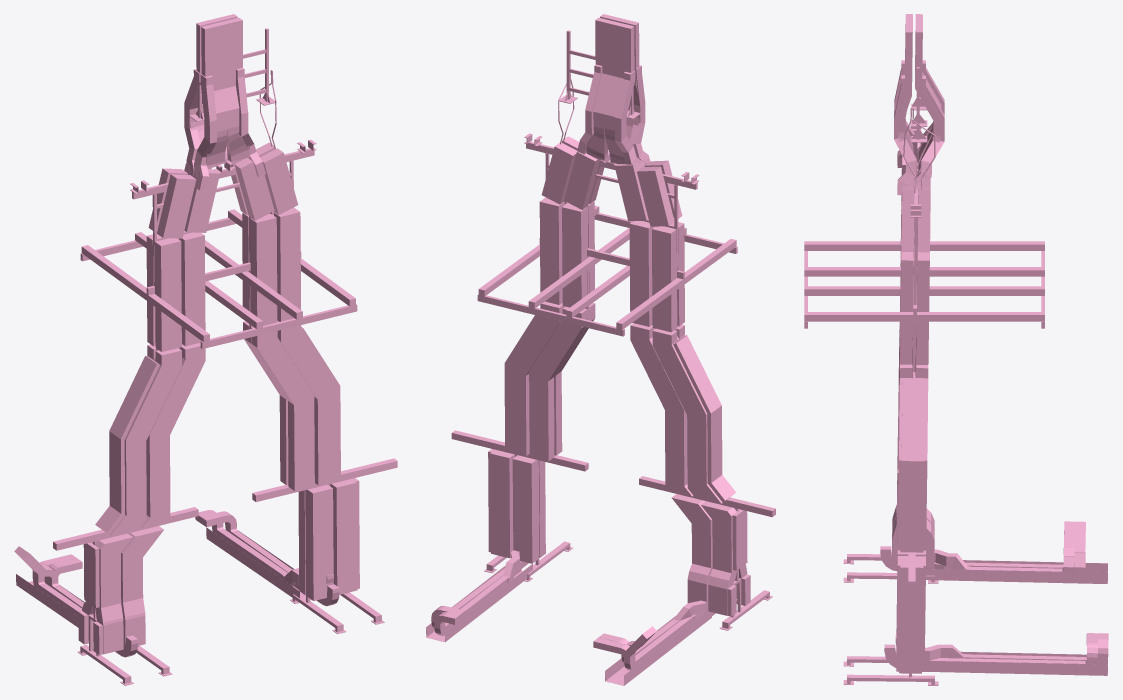
File: Serv-Z0-Sec13-cut3.glb
The picture shows the model from 3 angles, left to right: view 1: azimuth 30°, elevation 25°; view 2: azimuth 150°, elevation 25°; view 3: azimuth 270°, elevation 25°; orthographic projection. The views are drawn at different scales.
Parts seen in each view (by area): view 1: Serv-Z0-Sec13, Serv-Z0-Sec13-Frames; view 2: Serv-Z0-Sec13, Serv-Z0-Sec13-Frames; view 3: Serv-Z0-Sec13, Serv-Z0-Sec13-Frames.
Boxes of the visible parts, <box> form: Serv-Z0-Sec13: <box>14,14,359,657</box>; Serv-Z0-Sec13-Frames: <box>16,28,397,685</box>; Serv-Z0-Sec13: <box>431,14,750,670</box>; Serv-Z0-Sec13-Frames: <box>426,30,775,685</box>; Serv-Z0-Sec13: <box>880,14,1108,673</box>; Serv-Z0-Sec13-Frames: <box>804,67,1107,685</box>.
Bounding box in the file's own units: 5.4 × 9.22 × 4.22.
